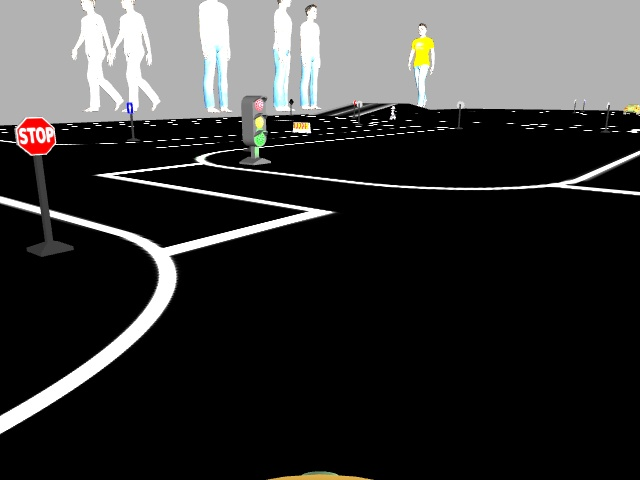ClosedRoadStand: (291, 121, 311, 133)
OneWay: (125, 102, 133, 114)
Stop: (13, 118, 56, 153)
TrafficLight: (241, 97, 265, 147)
